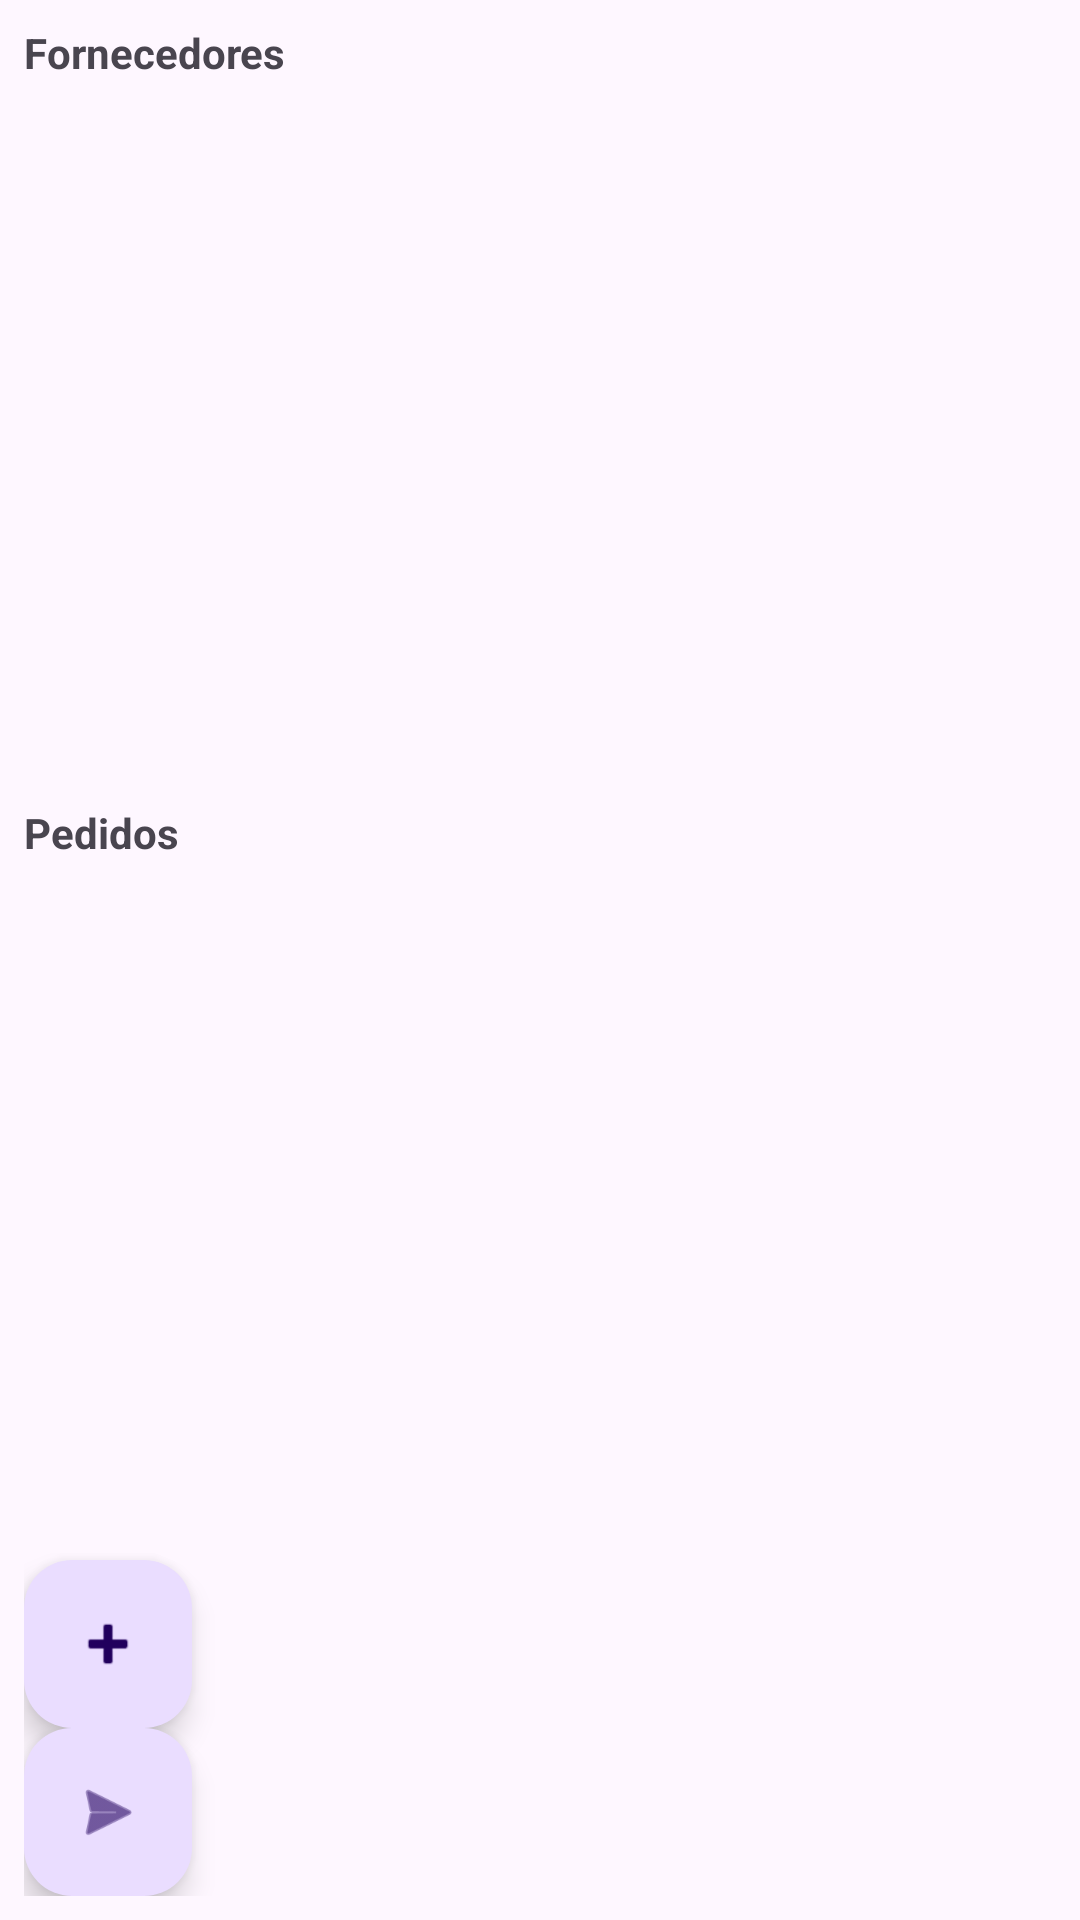

Screen size 1080 × 1920. Icon name, then its center in pixels as [x,y]:
add: [108,1644]
send: [108,1812]
